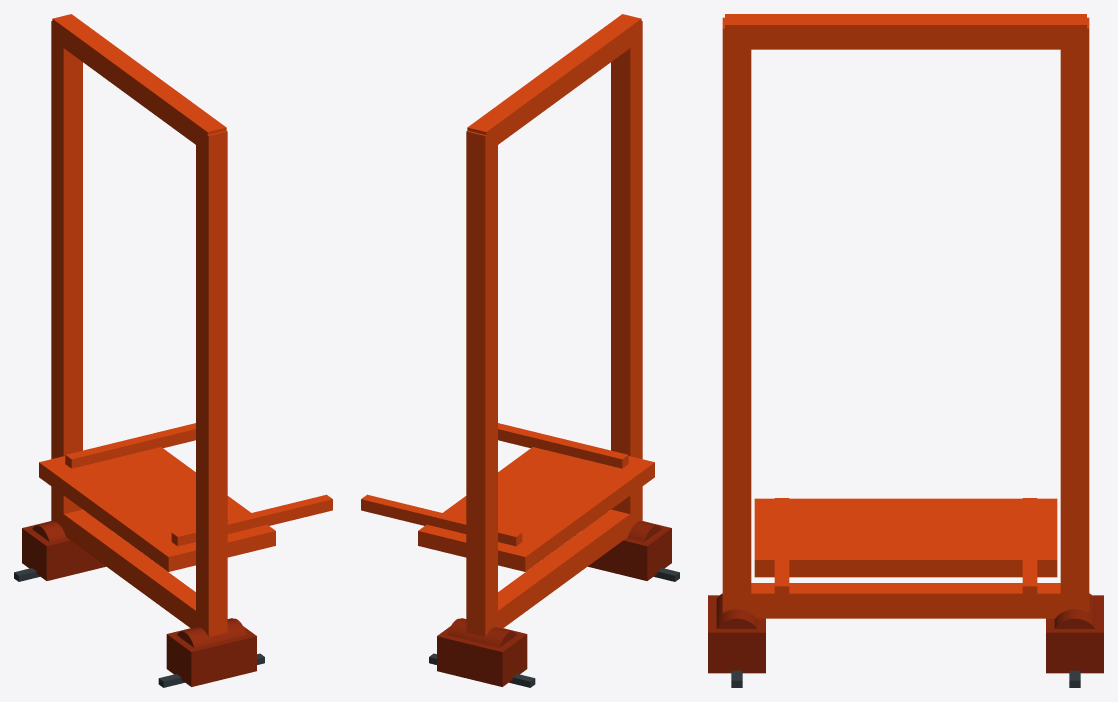
File: bearing_store_lift.dae
3 renders of one model, left to right at view 1: azimuth 30°, elevation 25°; view 2: azimuth 150°, elevation 25°; view 3: azimuth 270°, elevation 25°, orthographic. The views are drawn at different scales.
Visible parts, largest first — view 1: bearing_store_lift; view 2: bearing_store_lift; view 3: bearing_store_lift.
Part boxes in pixels (<box>): bearing_store_lift: <box>14,14,332,687</box>; bearing_store_lift: <box>361,14,679,687</box>; bearing_store_lift: <box>708,14,1103,687</box>.
Bounding box in the file's own units: 1.57 × 2.46 × 4.39.
